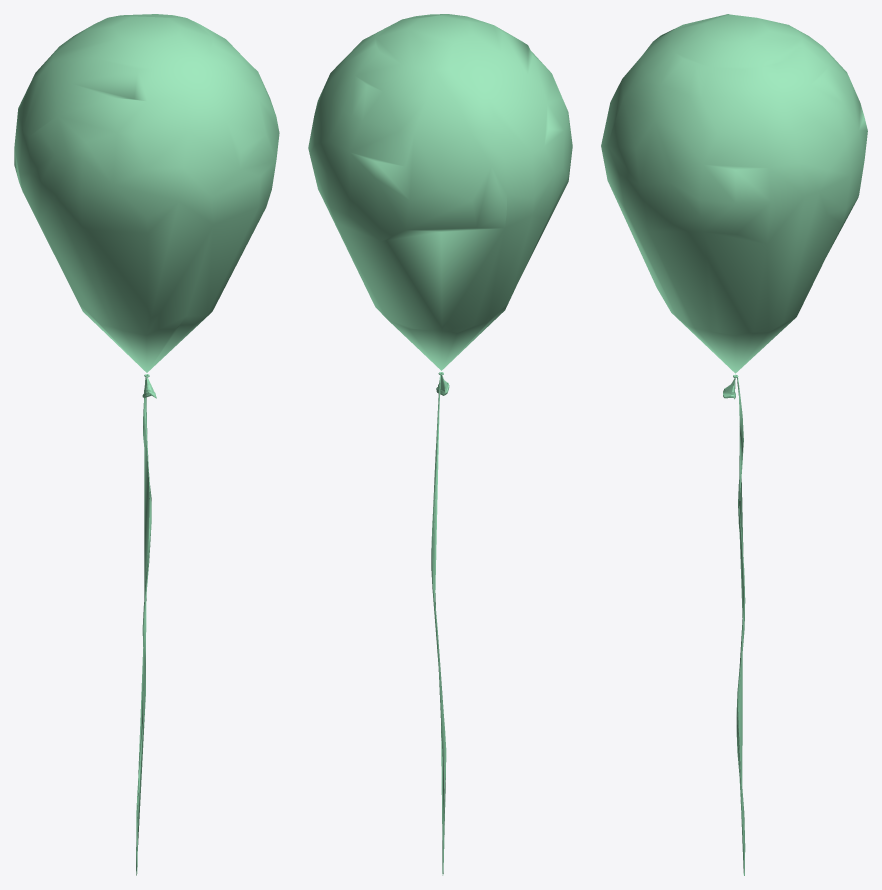
Rendered from balloon_new.obj.
3 views of the same model, side by side, from view 1: azimuth 30°, elevation 25°; view 2: azimuth 150°, elevation 25°; view 3: azimuth 270°, elevation 25° (orthographic).
Parts seen in each view (by area): view 1: balloon009; view 2: balloon009; view 3: balloon009.
Part boxes in pixels (x1=…): balloon009: x1=14, y1=14, x2=279, y2=875; balloon009: x1=308, y1=14, x2=572, y2=875; balloon009: x1=601, y1=14, x2=867, y2=875.
Size of the model in its own units: 2.06 by 7.22 by 2.05.
